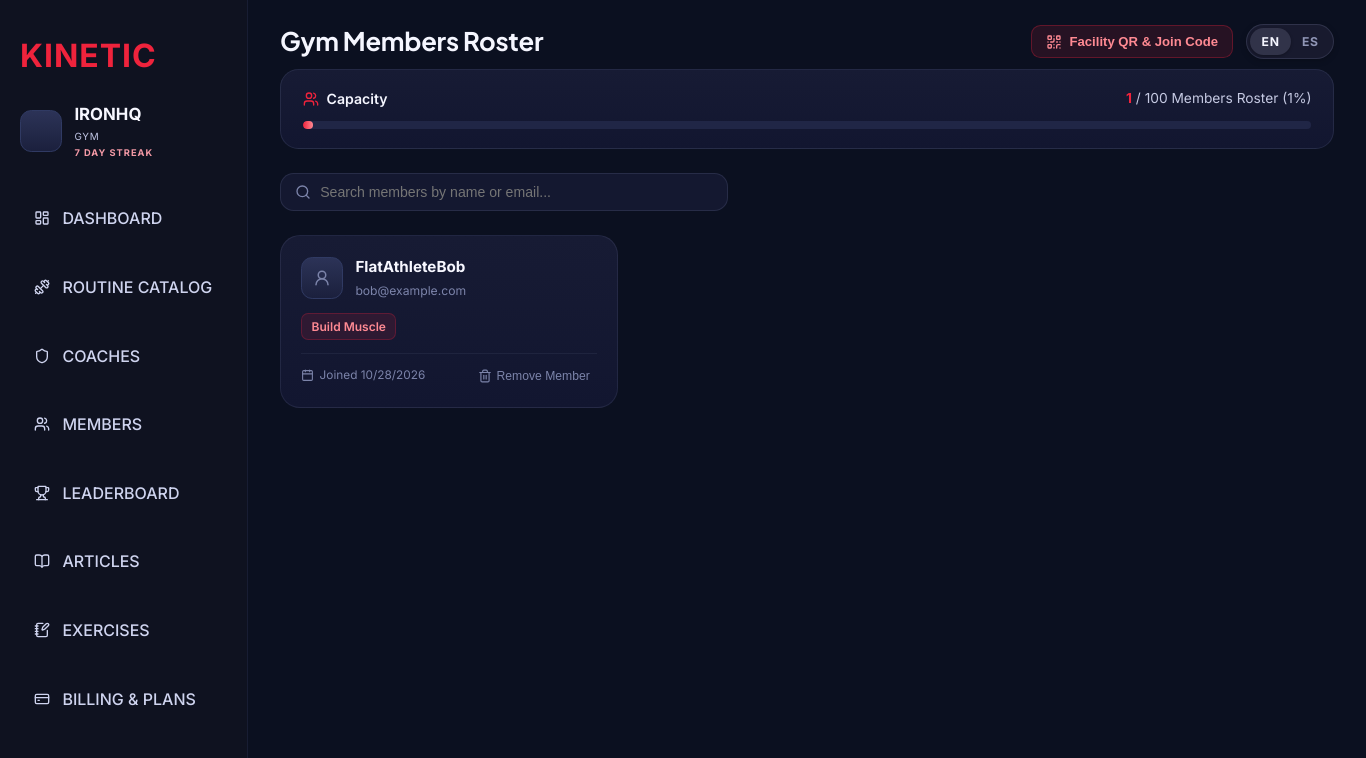
Test case: Gym Pages › GymMembersPage › renders members with flat properties, goal badge, and fallback avatar
Expected: the heading "FlatAthleteBob" is shown, left=355, top=256, right=466, bottom=279
Expected: the text "bob@example.com" is shown, left=355, top=282, right=466, bottom=300
Test search filter on flat properties
Type "bob" into the field. click: (504, 192)
box: left=280, top=173, right=728, bottom=212
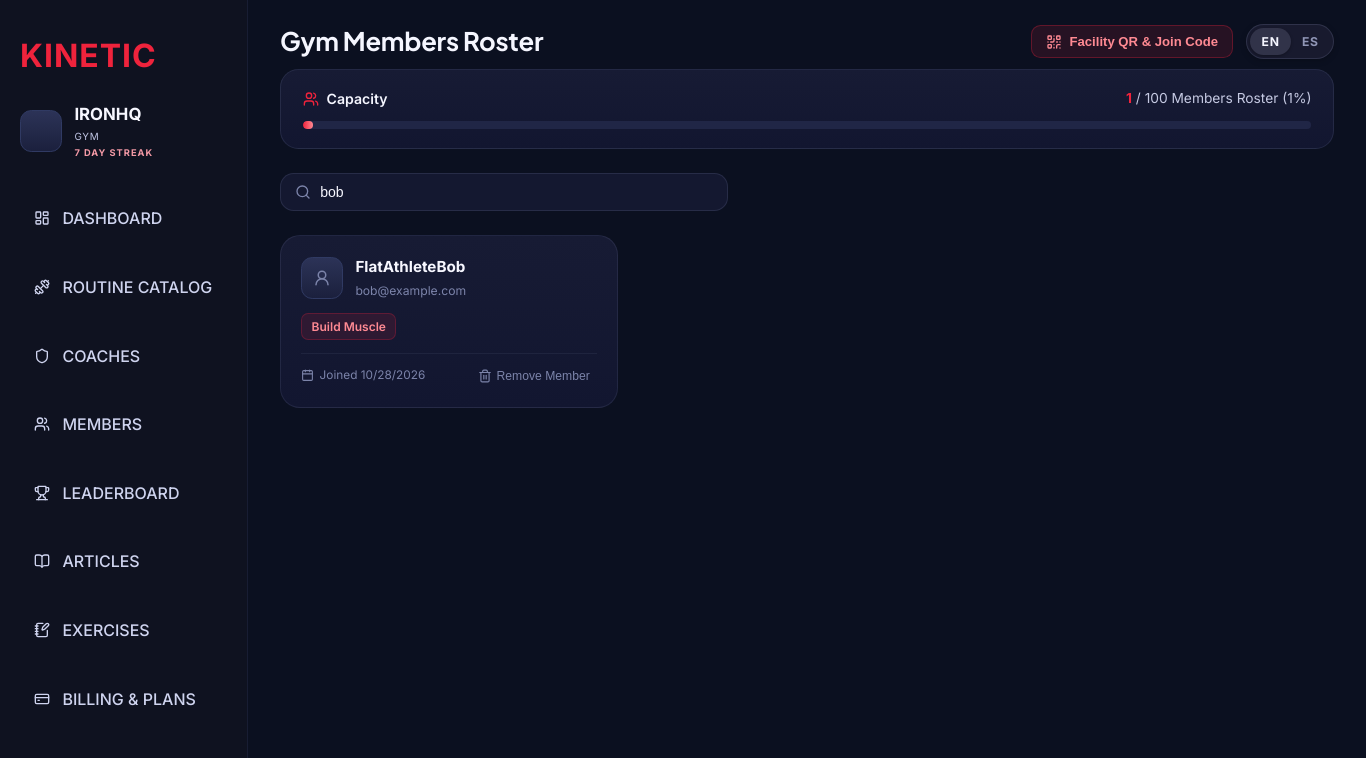
Expected: the heading "FlatAthleteBob" is shown, left=355, top=256, right=466, bottom=279
Replace the text in the field with "nonexistent". click: (504, 192)
box: left=280, top=173, right=728, bottom=212
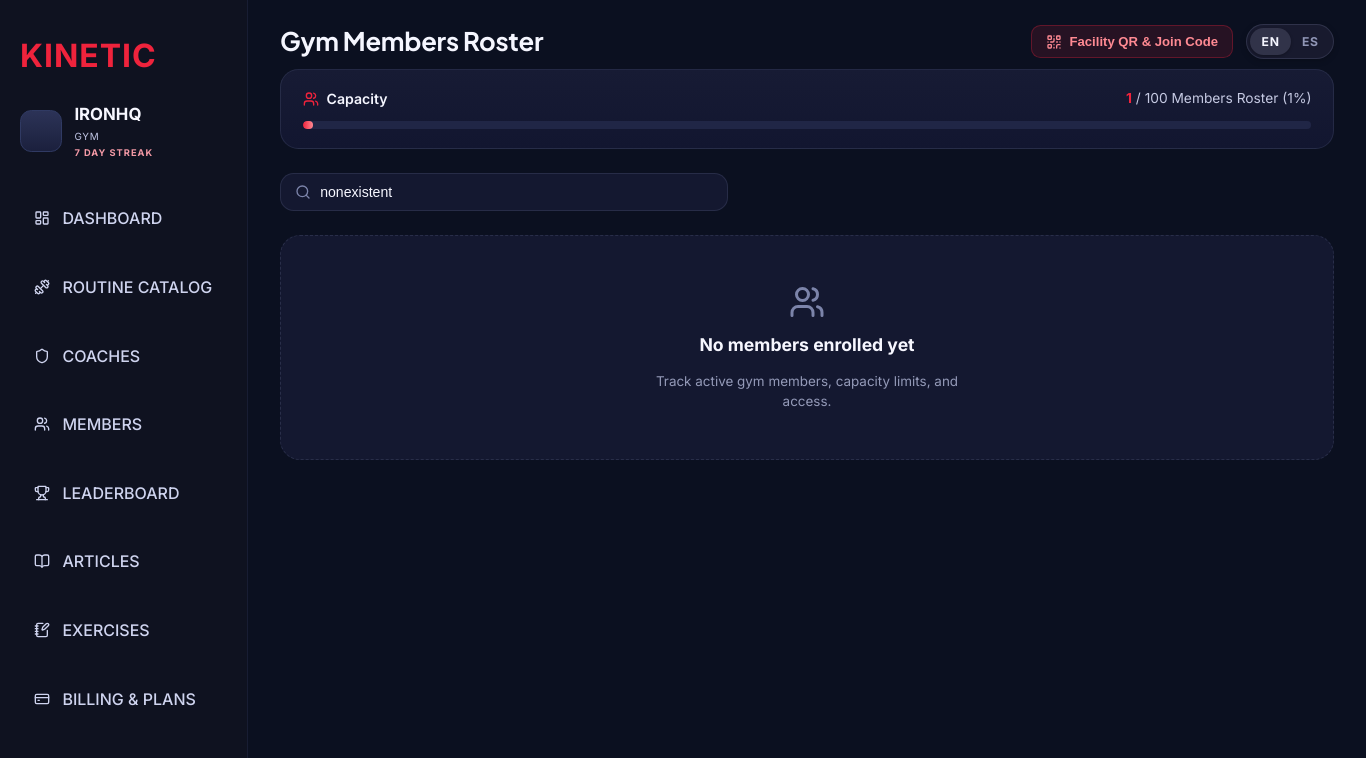
Expected: the heading "FlatAthleteBob" is gone
